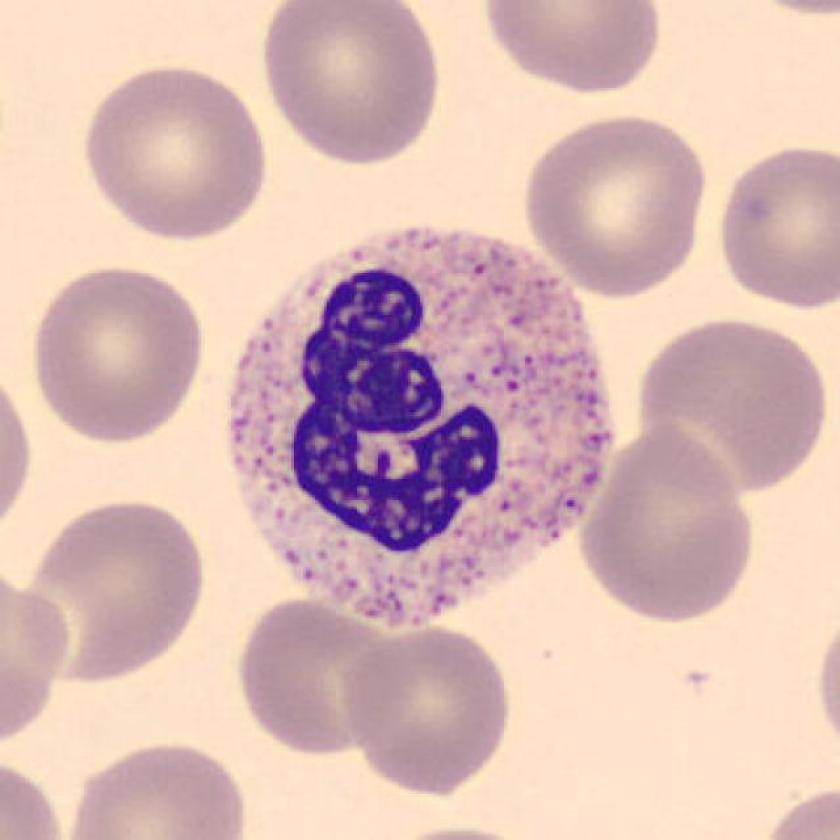neutrophil: (230, 230, 613, 625)
